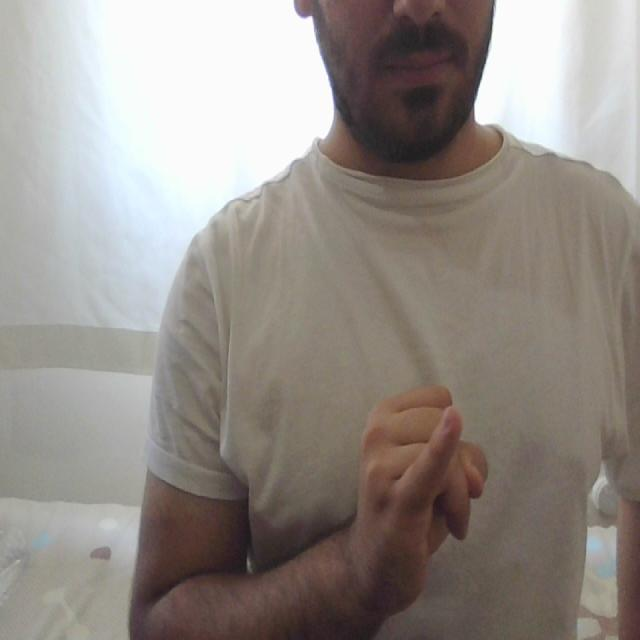kotu: (354, 370, 490, 574)
